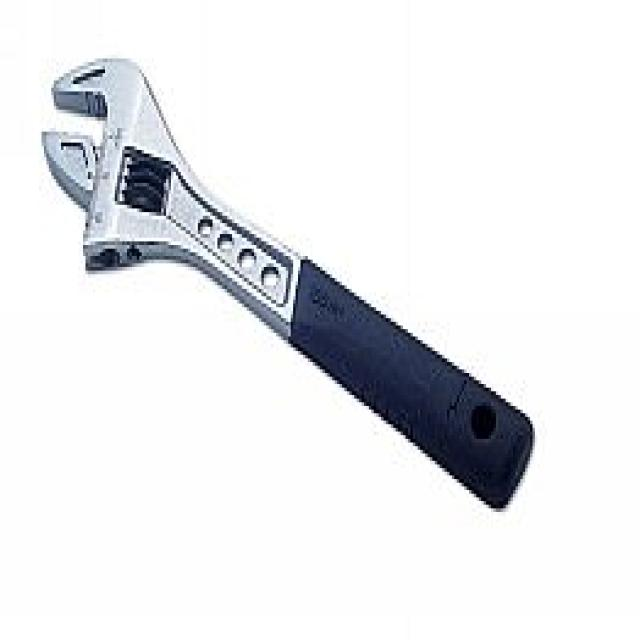wrench: (31, 27, 560, 509)
